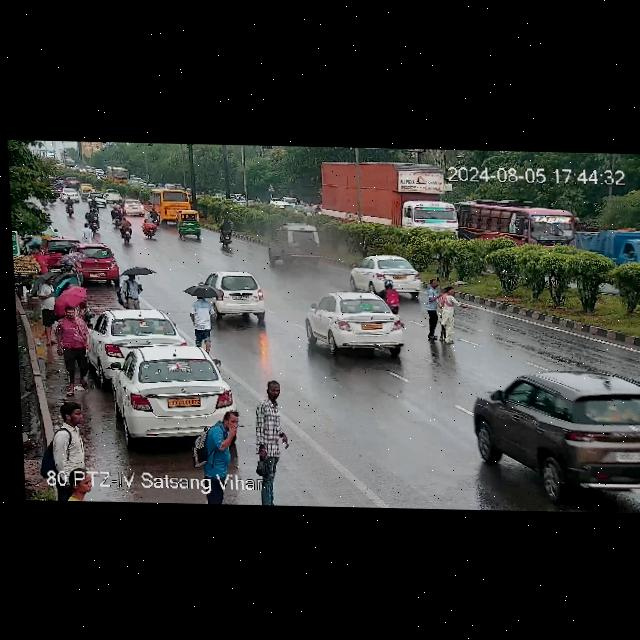bus: (453, 199, 575, 249), (147, 188, 198, 225)
car: (473, 367, 640, 509), (108, 348, 237, 442), (300, 291, 407, 358), (89, 308, 186, 369), (31, 238, 117, 280), (201, 271, 269, 321), (350, 253, 428, 296), (268, 226, 321, 271), (175, 211, 202, 239), (216, 216, 235, 246), (120, 198, 147, 215), (86, 192, 107, 208), (103, 190, 125, 203)
motorcycle: (382, 278, 400, 313), (62, 196, 79, 215), (88, 210, 101, 234), (120, 214, 131, 241), (142, 214, 155, 236), (110, 205, 122, 224), (150, 204, 158, 220), (89, 198, 98, 210)
person: (253, 378, 285, 493), (59, 308, 91, 391), (424, 281, 464, 342), (49, 398, 89, 454), (188, 290, 219, 350), (212, 407, 243, 462), (36, 276, 57, 351), (118, 272, 143, 311), (69, 468, 93, 501), (82, 224, 94, 244), (63, 261, 75, 281), (61, 281, 72, 289)
truck: (311, 156, 460, 231), (582, 228, 640, 269)
